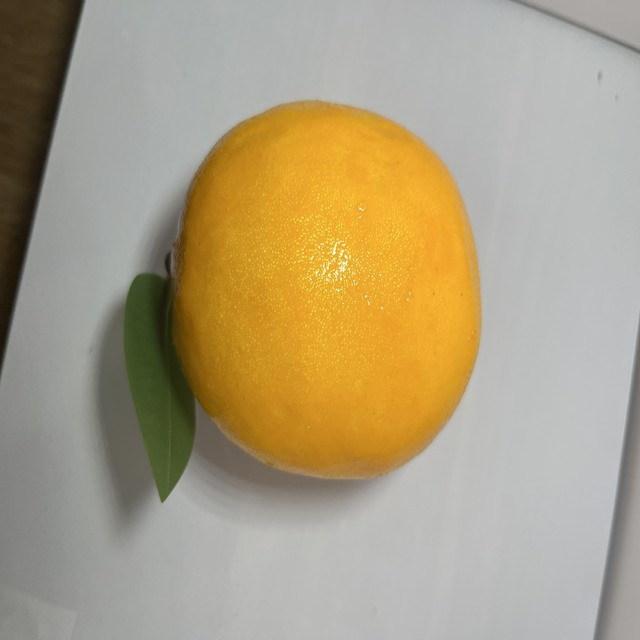Cam vang: (154, 93, 482, 484)
